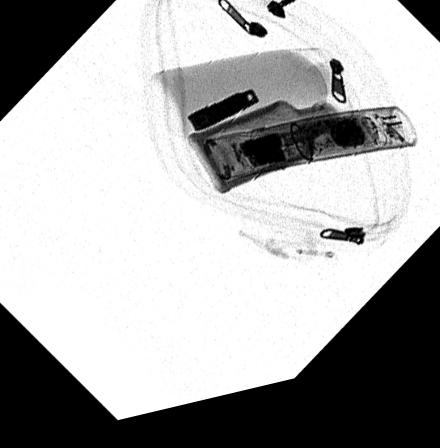Baton: (200, 120, 417, 191)
